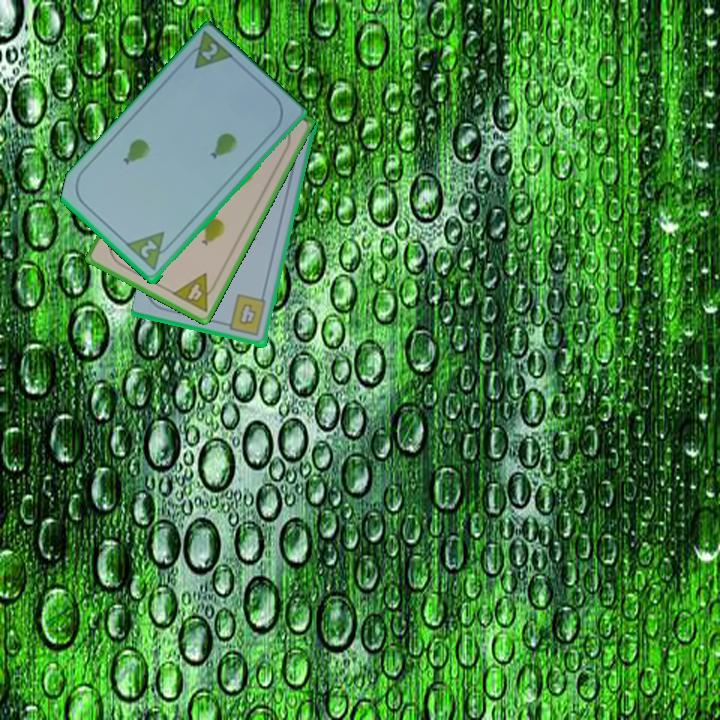2p: (124, 228, 177, 274), (180, 30, 237, 72)
4b: (221, 292, 269, 339)
4p: (169, 269, 222, 315)
